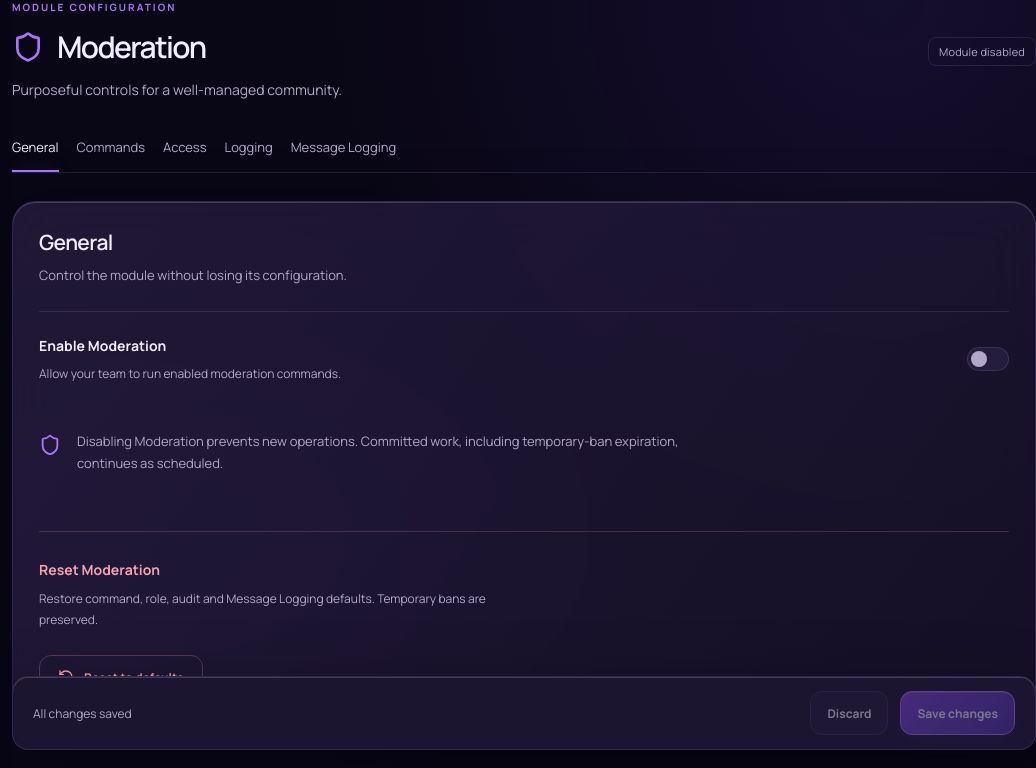
Test case: administration interactions › saves only when explicitly requested and reports success
Click the switch at (988, 359), box [967, 347, 1009, 371]
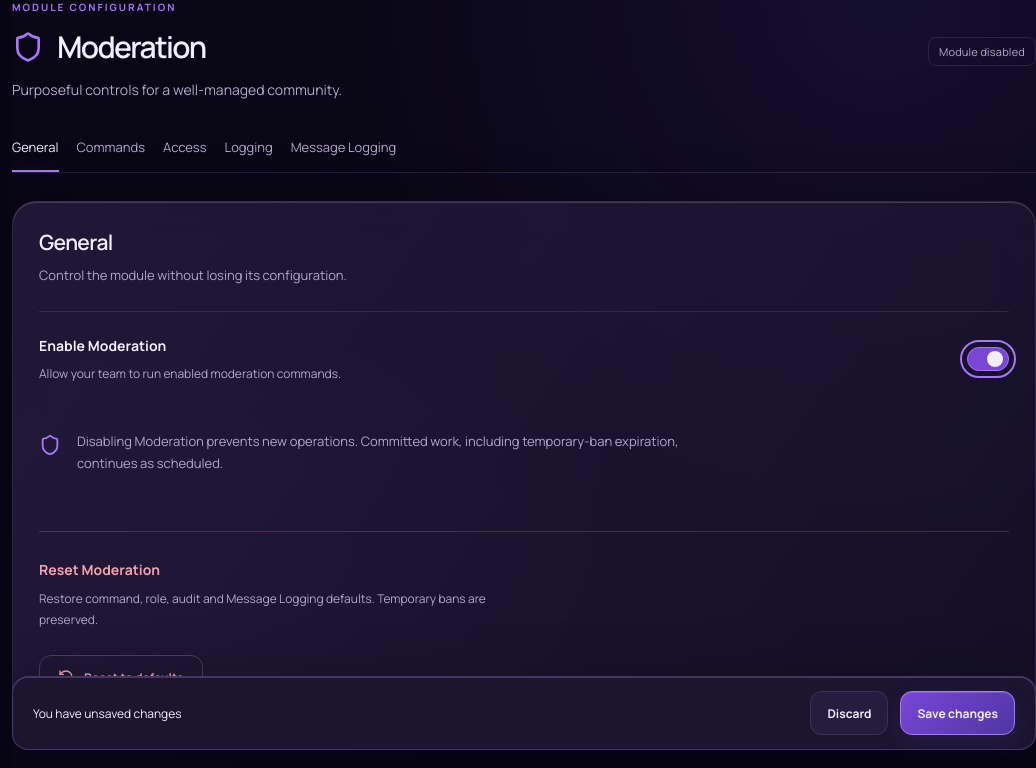
Click the button "Save changes" at (958, 713), box [900, 691, 1015, 735]
(page scrolled)
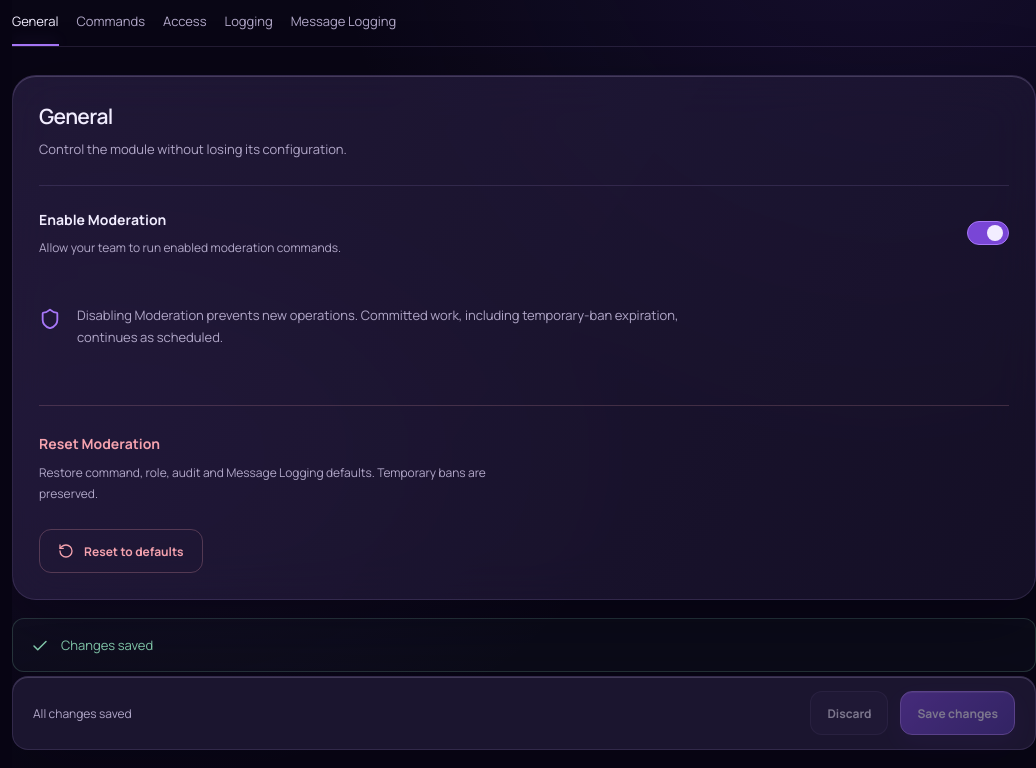
Expected: the text "Changes saved" is shown, [61, 634, 153, 656]
